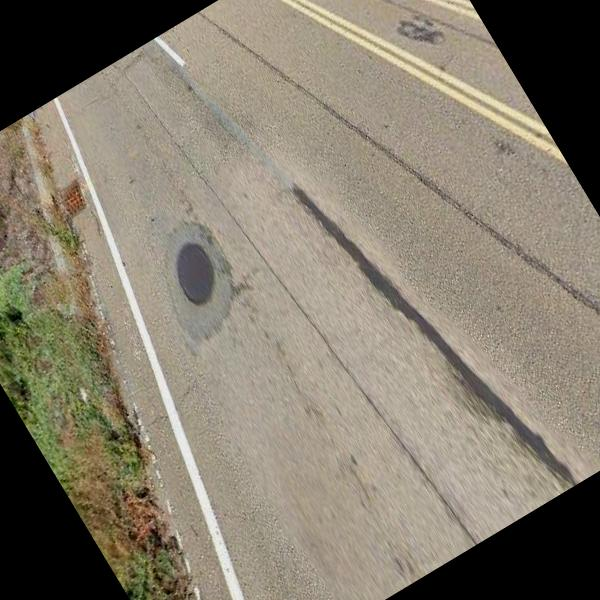manhole: (138, 202, 266, 358)
